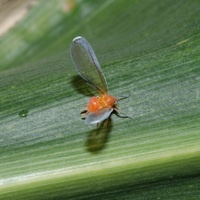insect: (70, 36, 128, 123)
